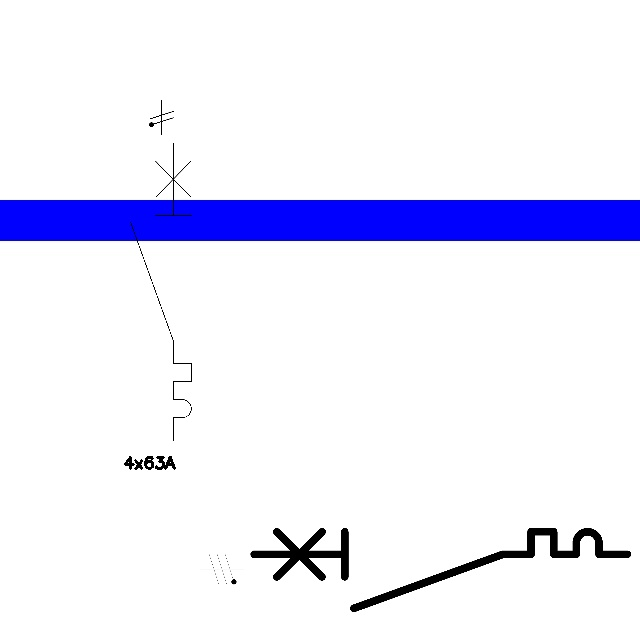interruptor_termomagnetico: (244, 522, 636, 618), (123, 135, 199, 447)
